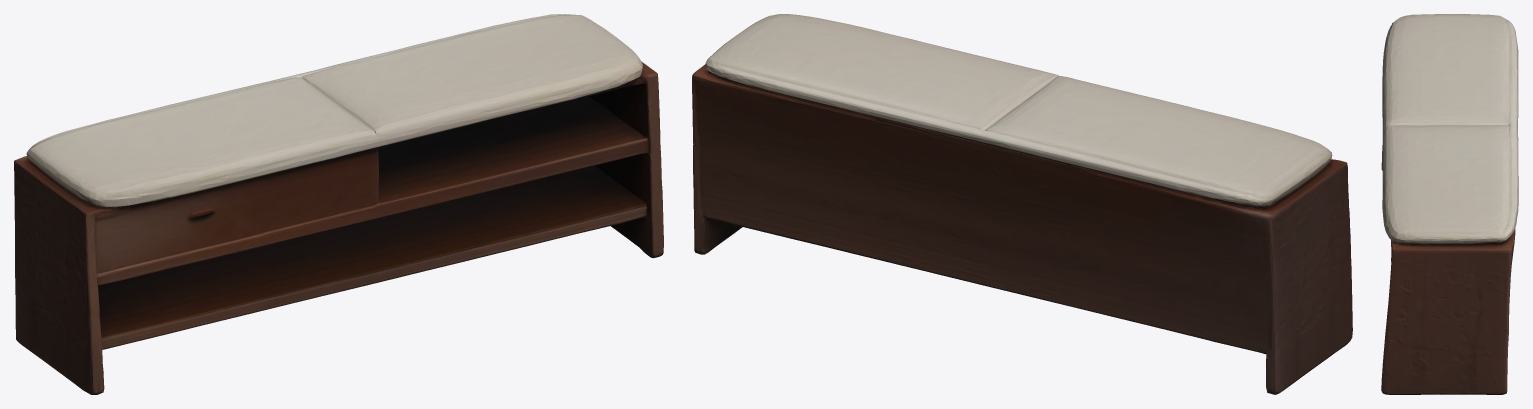
File: ast_f2d29b396fcd.glb
The picture shows the model from 3 angles, left to right: view 1: azimuth 30°, elevation 25°; view 2: azimuth 150°, elevation 25°; view 3: azimuth 270°, elevation 25°; orthographic projection. The views are drawn at different scales.
Visible parts, largest first — view 1: geometry_0; view 2: geometry_0; view 3: geometry_0.
Part boxes in pixels (x1,y1,x2,y2): geometry_0: [14, 14, 663, 394]; geometry_0: [692, 14, 1352, 394]; geometry_0: [1381, 14, 1518, 394].
Bounding box in the file's own units: 1 × 0.3288 × 0.2542.
1 material, 1 textured.
